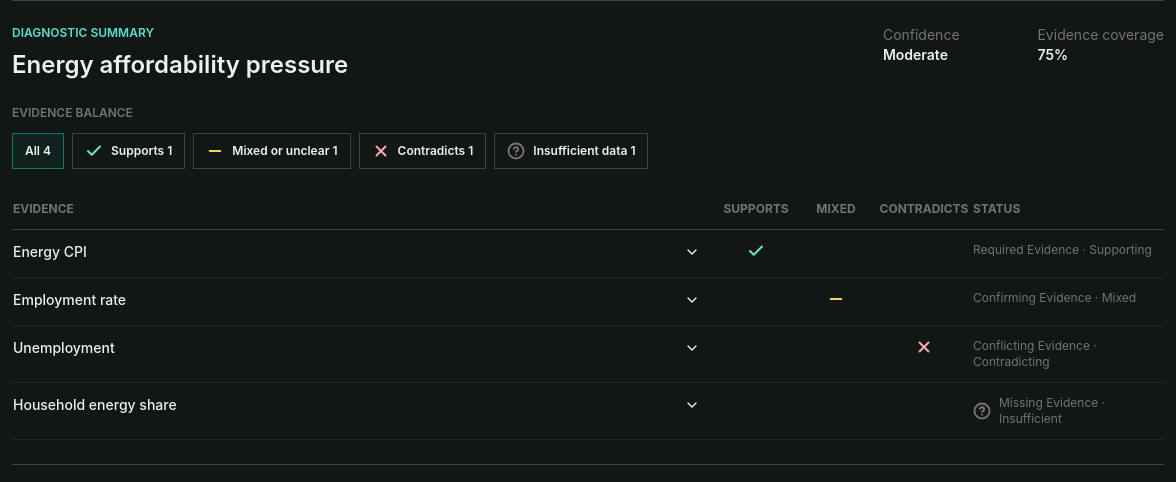
EvidenceMatrix › renders all four accessible evidence statuses and clickable counts
Expected: the heading "Energy affordability pressure" is shown, [12,50,348,79]
Click the button "Supports 1": (129, 151) [72,133,185,169]
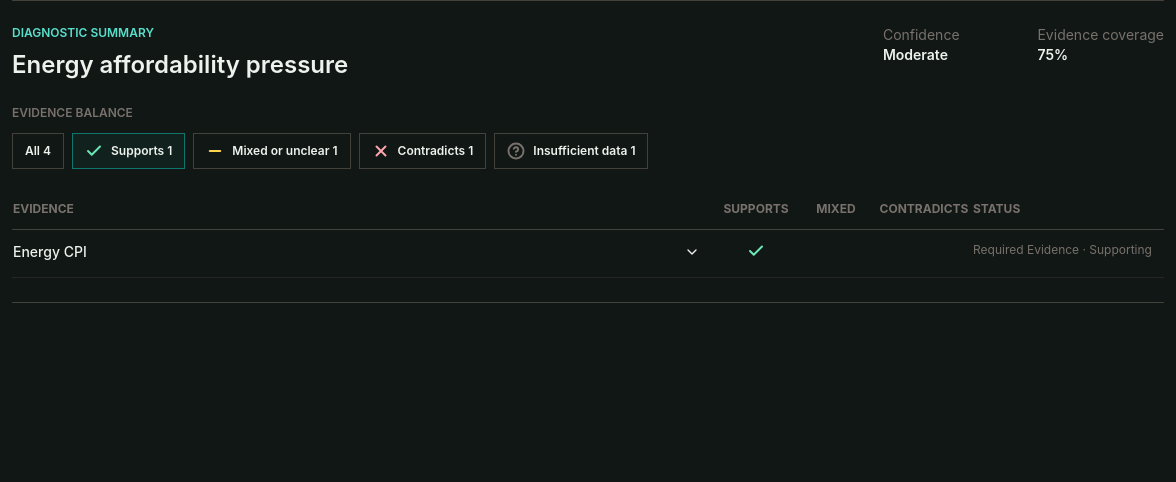
Expected: the text "Energy CPI" is shown, [13,242,87,262]
Result: the button "Employment rate" is gone
